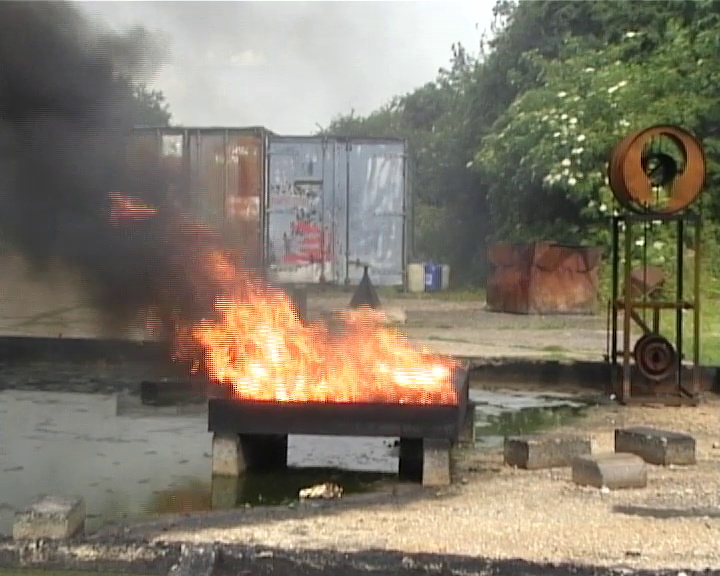fire: (194, 288, 455, 404)
